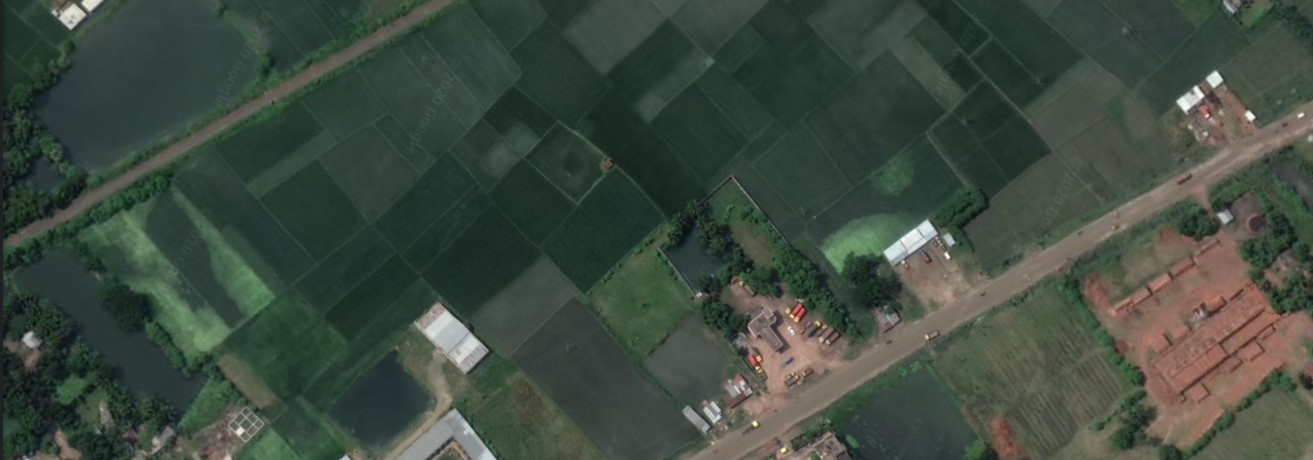kiln: (1128, 264, 1262, 395)
